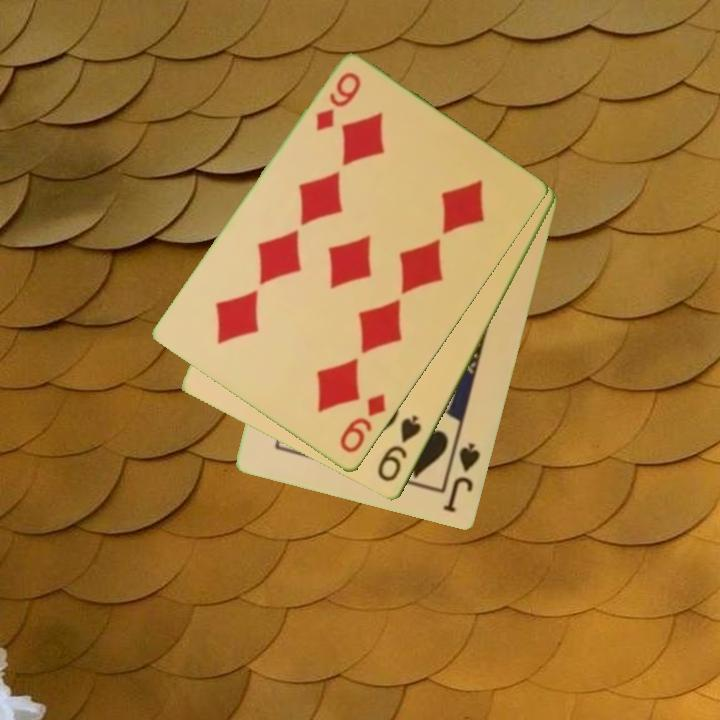9d: (336, 390, 389, 457), (312, 69, 364, 135)
9s: (373, 412, 425, 486)
Js: (440, 439, 484, 516)
